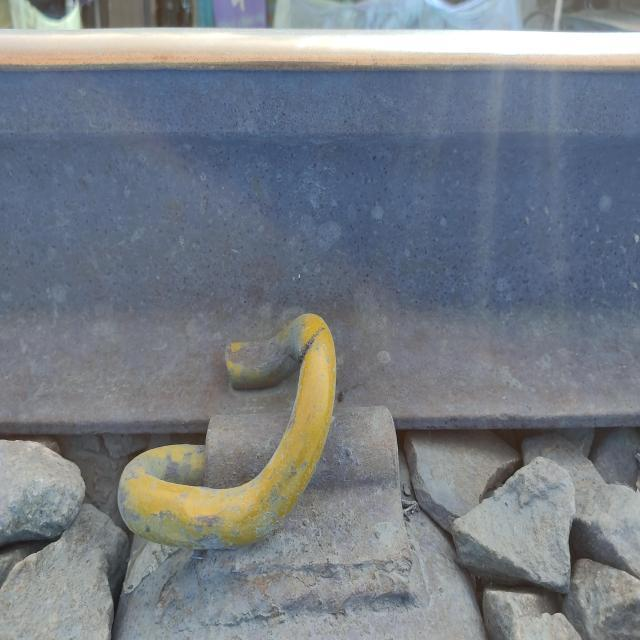Good Fasteners: (118, 322, 416, 595)
